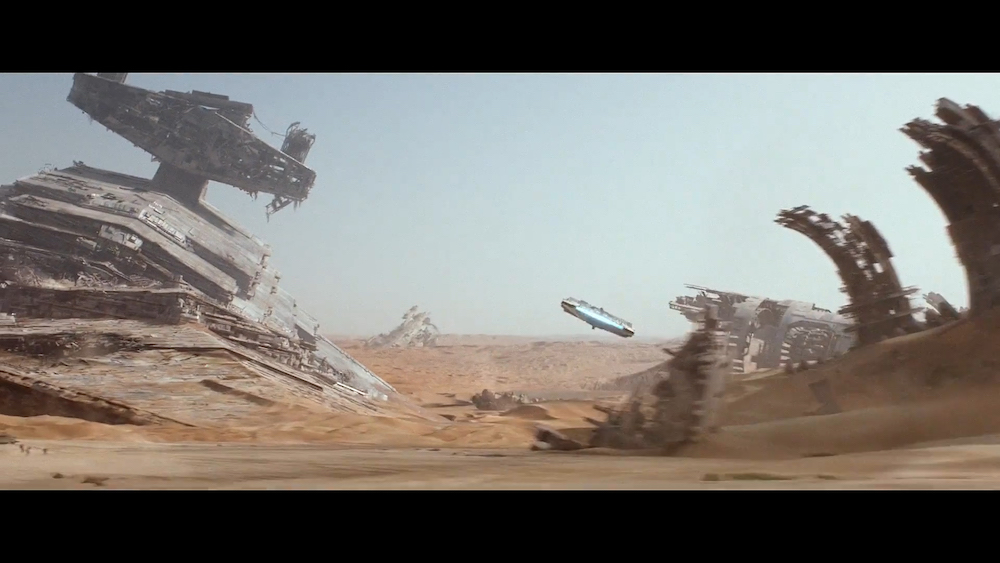Millennium Falcon: (558, 295, 639, 343)
